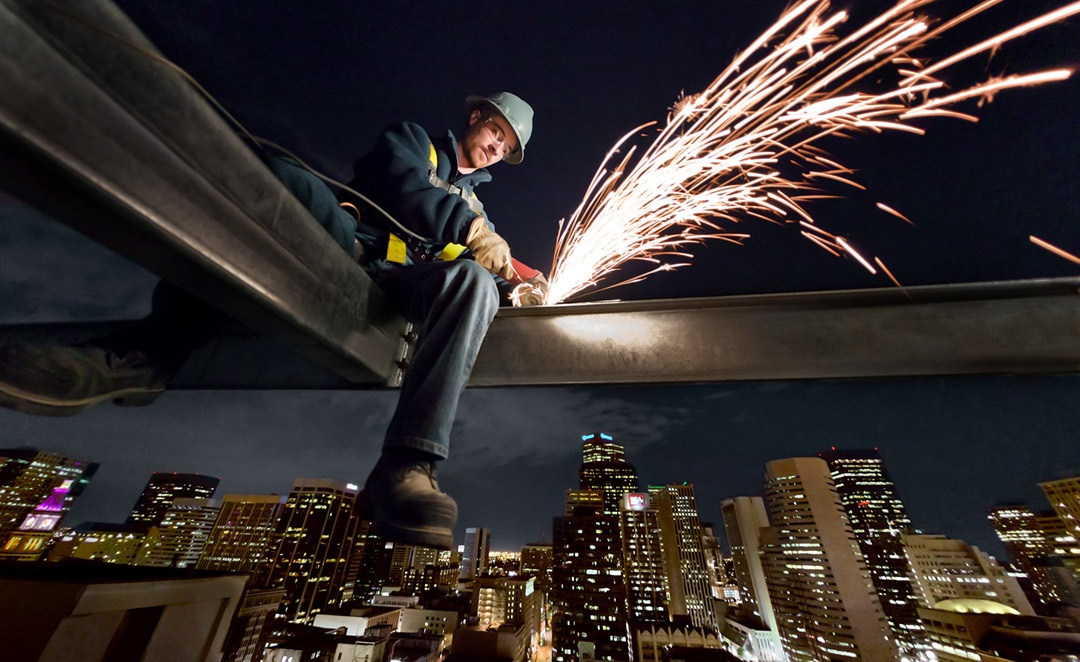blue: (461, 92, 532, 170)
